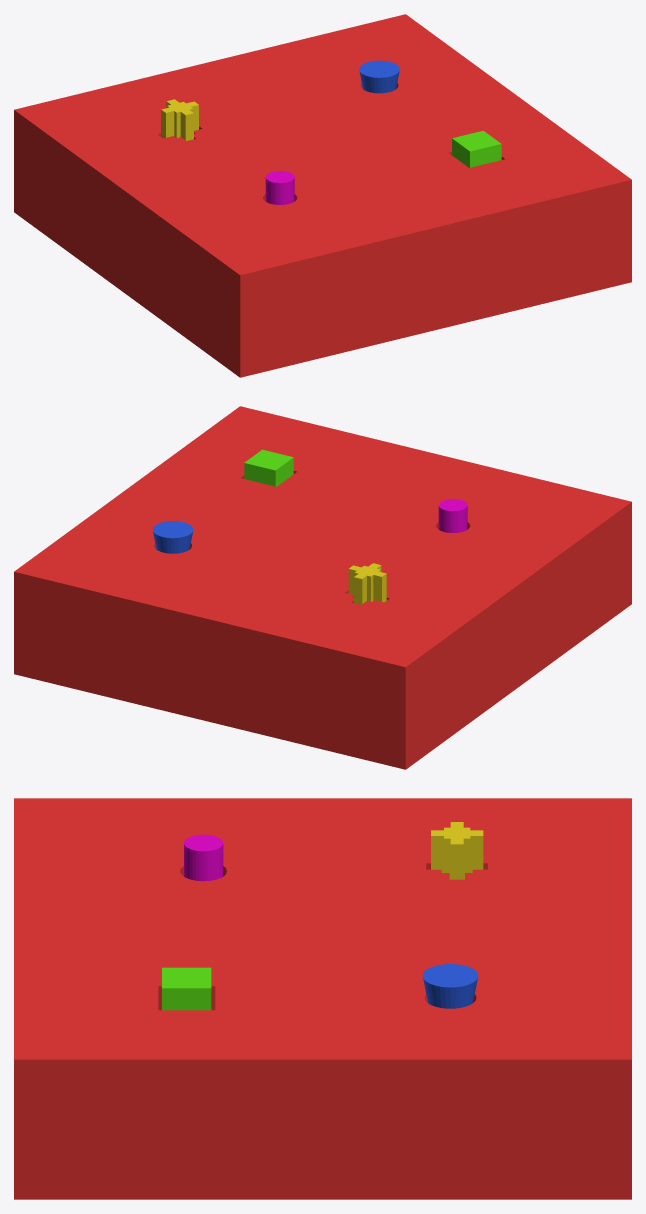
The model's file is Pegboard2.fbx.
3 renders of one model, top to bottom at view 1: azimuth 30°, elevation 25°; view 2: azimuth 150°, elevation 25°; view 3: azimuth 270°, elevation 25°, orthographic. The views are drawn at different scales.
Parts seen in each view (by area): view 1: Pegboard2, RectangleFiller, WeirdFiller, ConeFiller, CylinderFiller; view 2: Pegboard2, RectangleFiller, WeirdFiller, ConeFiller, CylinderFiller; view 3: Pegboard2, WeirdFiller, RectangleFiller, ConeFiller, CylinderFiller.
Part boxes in pixels (x1=…): Pegboard2: x1=14, y1=14, x2=631, y2=377; RectangleFiller: x1=452, y1=130, x2=501, y2=167; WeirdFiller: x1=161, y1=99, x2=198, y2=140; ConeFiller: x1=359, y1=60, x2=399, y2=93; CylinderFiller: x1=265, y1=171, x2=294, y2=204; Pegboard2: x1=14, y1=406, x2=631, y2=769; RectangleFiller: x1=244, y1=449, x2=293, y2=486; WeirdFiller: x1=348, y1=563, x2=386, y2=604; ConeFiller: x1=152, y1=521, x2=193, y2=553; CylinderFiller: x1=438, y1=499, x2=467, y2=532; Pegboard2: x1=14, y1=798, x2=631, y2=1199; WeirdFiller: x1=431, y1=822, x2=483, y2=879; RectangleFiller: x1=162, y1=967, x2=211, y2=1010; ConeFiller: x1=422, y1=964, x2=478, y2=1008; CylinderFiller: x1=184, y1=834, x2=223, y2=881.
Bounding box in the file's own units: 400 × 124 × 400.
